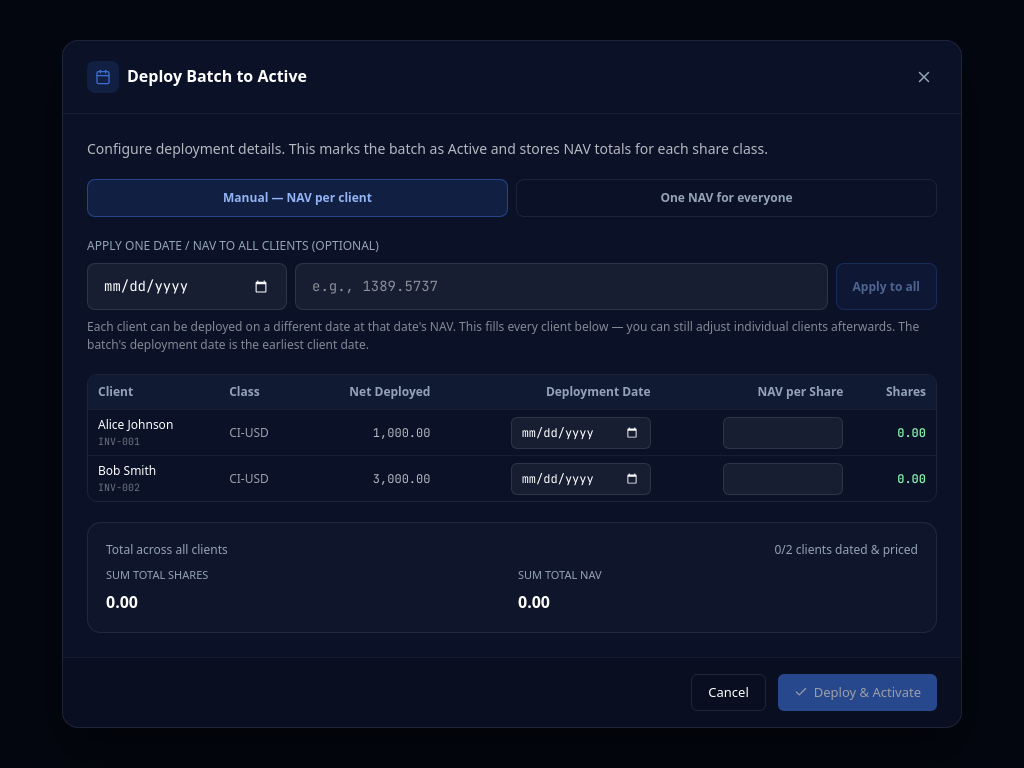
DeploymentDateModal — manual per-client date + NAV (Deploy stage) › lists every client with their own date and NAV inputs, blocking confirm until all are filled
Expected: the text "Alice Johnson" is shown, [98,416,173,433]
Expected: the text "Bob Smith" is shown, [98,462,156,479]
Type "100" into the number field named "NAV per share for Alice Johnson".
click(783, 432); type("100")  # box [723,416,843,448]
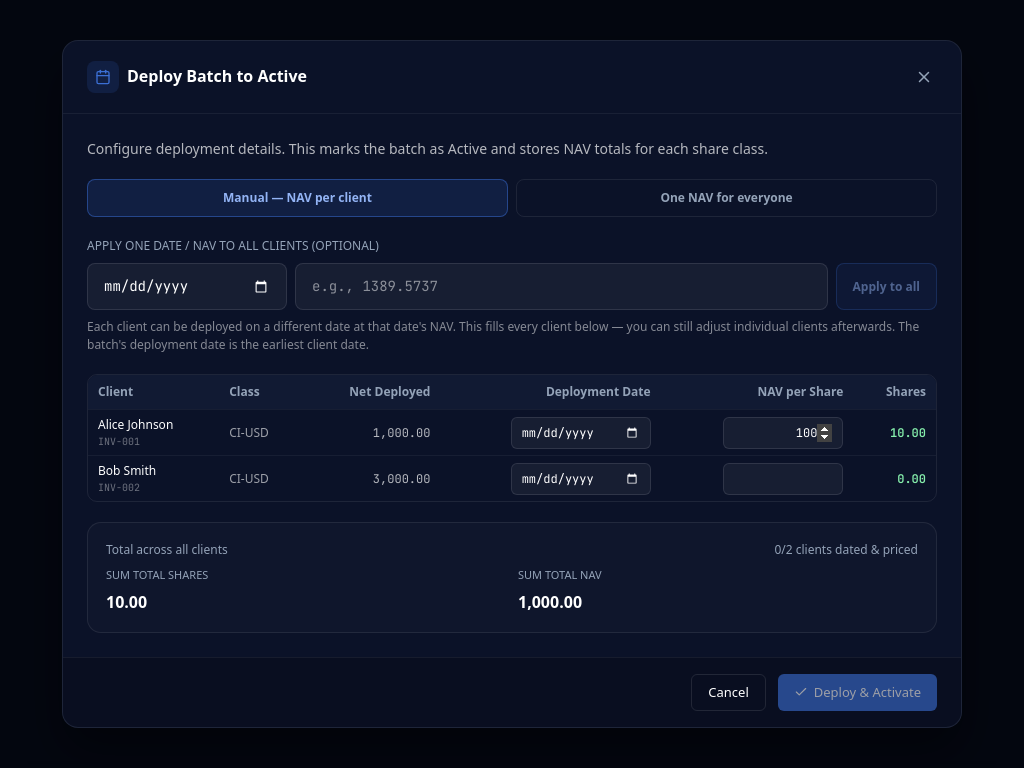
Type "120" into the number field named "NAV per share for Bob Smith".
click(783, 478); type("120")  # box [723,462,843,494]
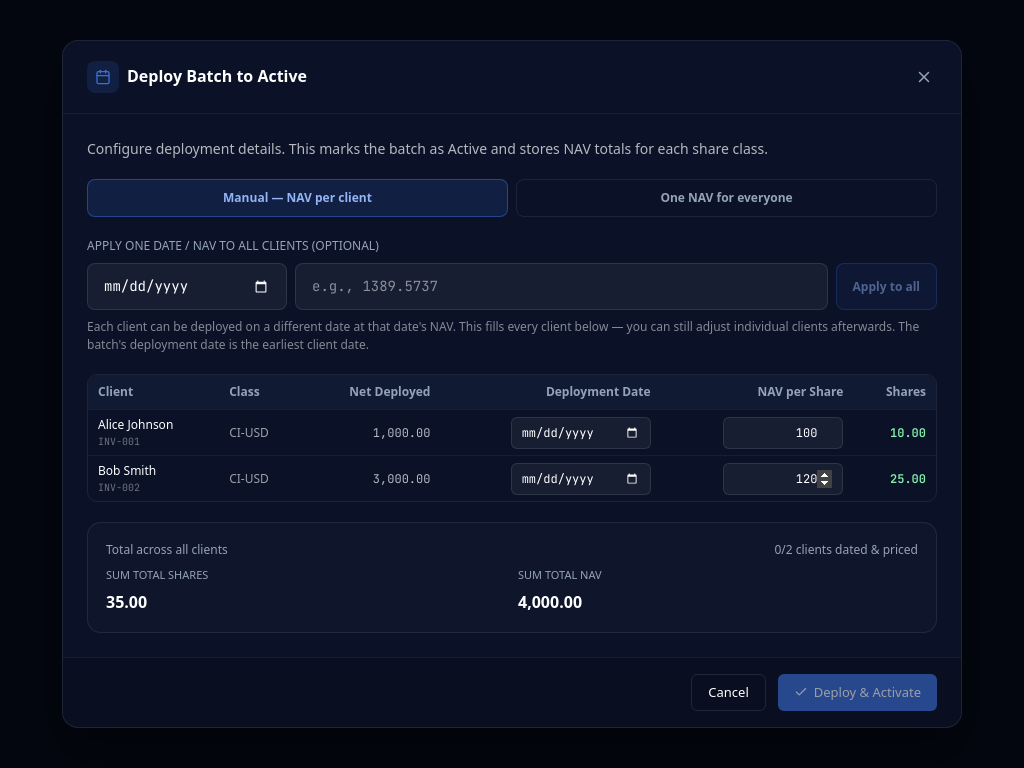
Expected: the button "Deploy & Activate" is disabled, [778,674,937,711]
Type "2026-10-01" into the date field named "Deployment date for Alice Johnson".
click(581, 432); type("2026-10-01")  # box [511,416,651,448]
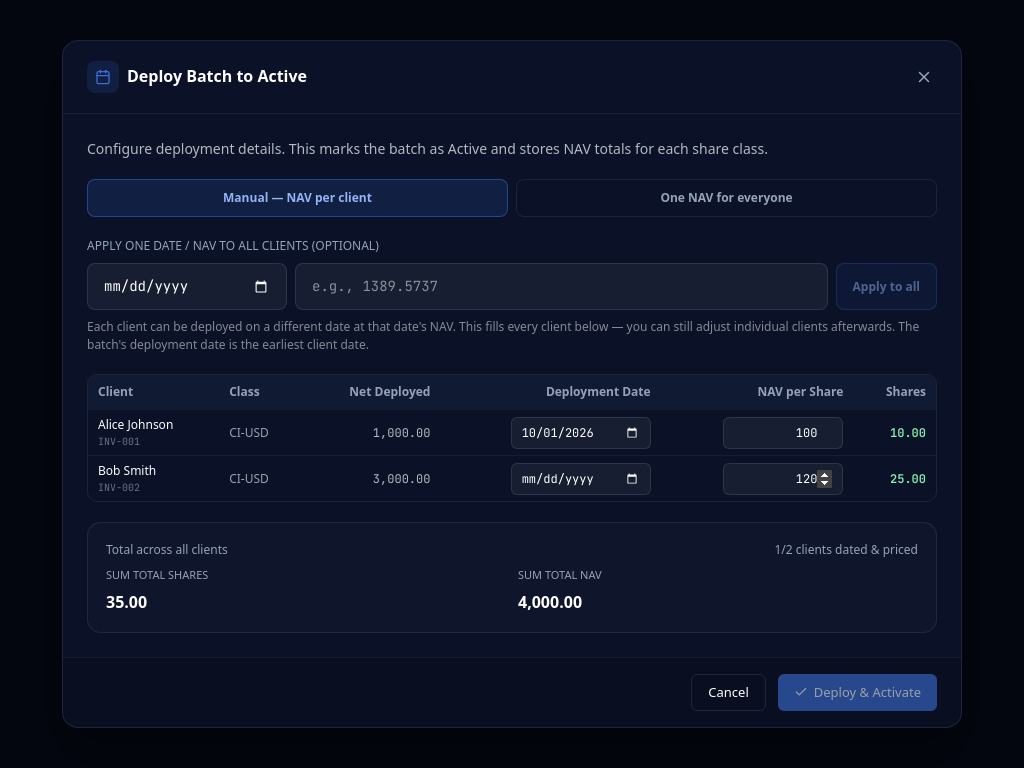
Expected: the button "Deploy & Activate" is disabled, [778,674,937,711]
Type "2026-10-08" into the date field named "Deployment date for Bob Smith".
click(581, 478); type("2026-10-08")  # box [511,462,651,494]
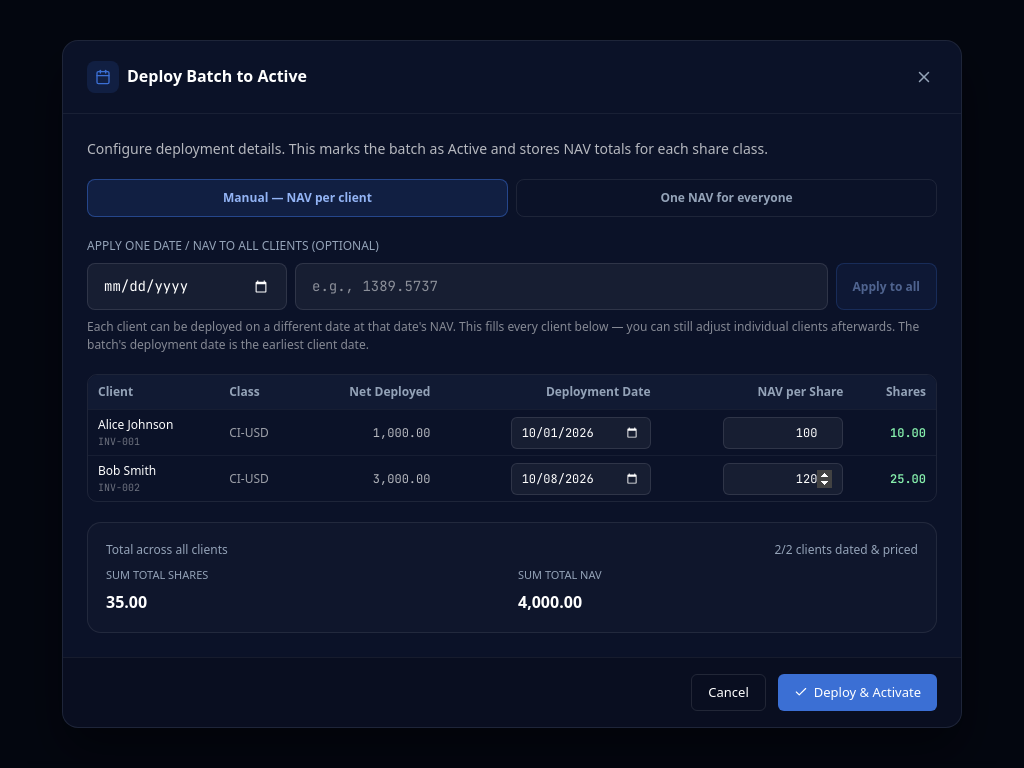
Now the button "Deploy & Activate" is enabled, box [778,674,937,711]
